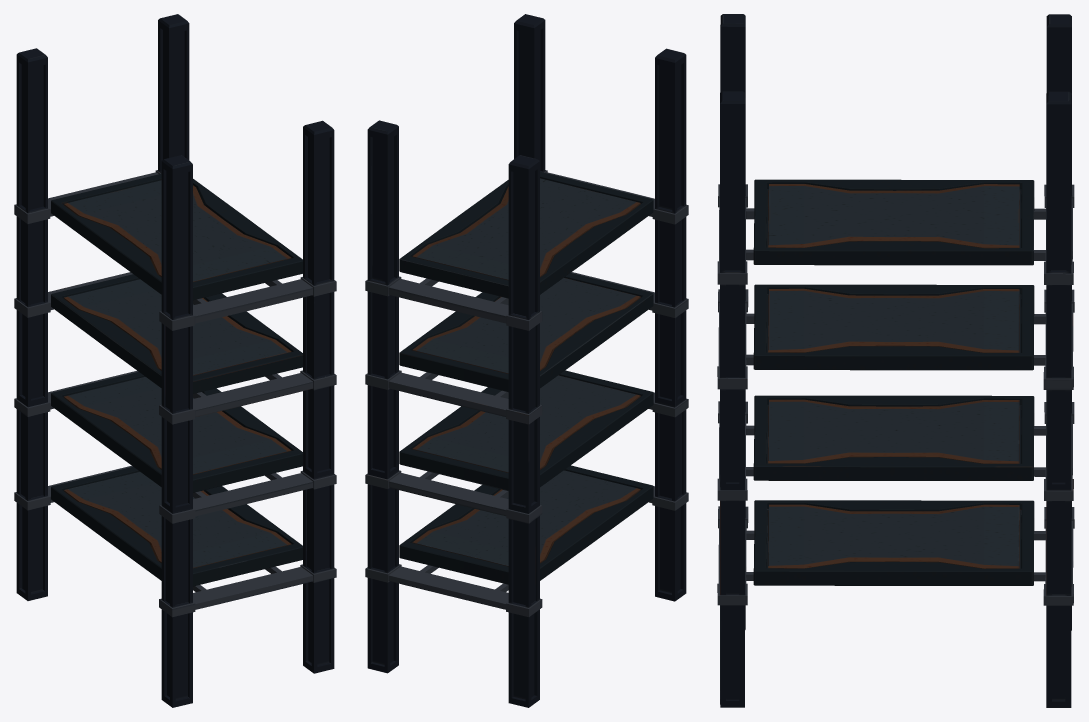
The model's file is scifi estanteria fbx.fbx.
3 views of the same model, side by side, from view 1: azimuth 30°, elevation 25°; view 2: azimuth 150°, elevation 25°; view 3: azimuth 270°, elevation 25° (orthographic). The views are drawn at different scales.
Visible parts, largest first — view 1: Estanteria .001; view 2: Estanteria .001; view 3: Estanteria .001.
Part boxes in pixels (x1=…): Estanteria .001: x1=14, y1=14, x2=336, y2=707; Estanteria .001: x1=365, y1=14, x2=688, y2=707; Estanteria .001: x1=717, y1=14, x2=1074, y2=707.
Size of the model in its own units: 114 by 357 by 191.
